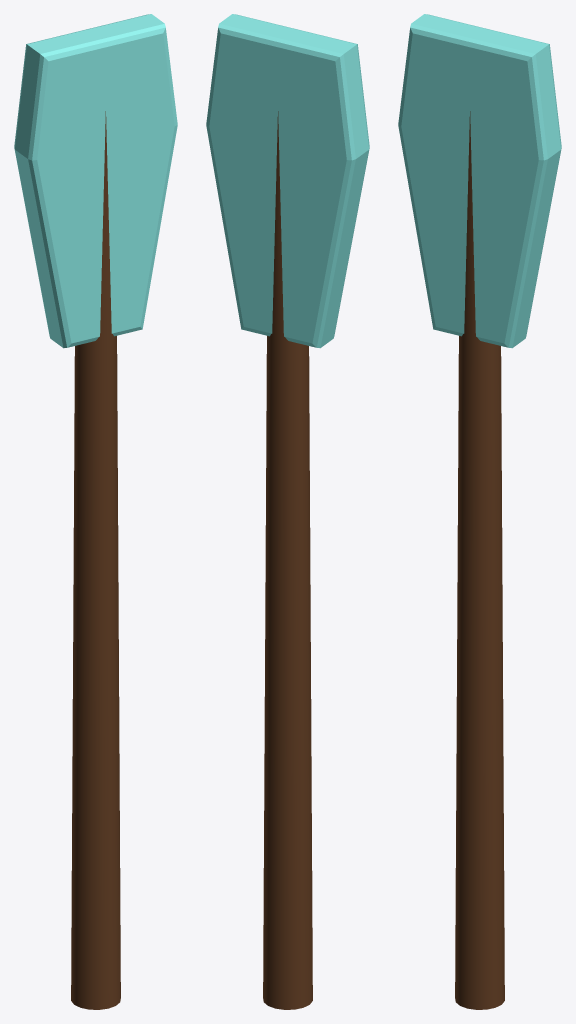
Rendered from diamond_shovel.glb.
The picture shows the model from 3 angles, left to right: view 1: azimuth 30°, elevation 25°; view 2: azimuth 150°, elevation 25°; view 3: azimuth 330°, elevation 25°; orthographic projection.
Visible parts, largest first — view 1: blade, handle; view 2: blade, handle; view 3: blade, handle.
Part boxes in pixels (left/top/right/bottom): blade: left=14, top=14, right=177, bottom=348; handle: left=71, top=111, right=120, bottom=1009; blade: left=206, top=14, right=369, bottom=348; handle: left=263, top=111, right=312, bottom=1009; blade: left=398, top=14, right=561, bottom=348; handle: left=455, top=111, right=504, bottom=1009.
Size of the model in its own units: 0.1301 by 0.805 by 0.038.
